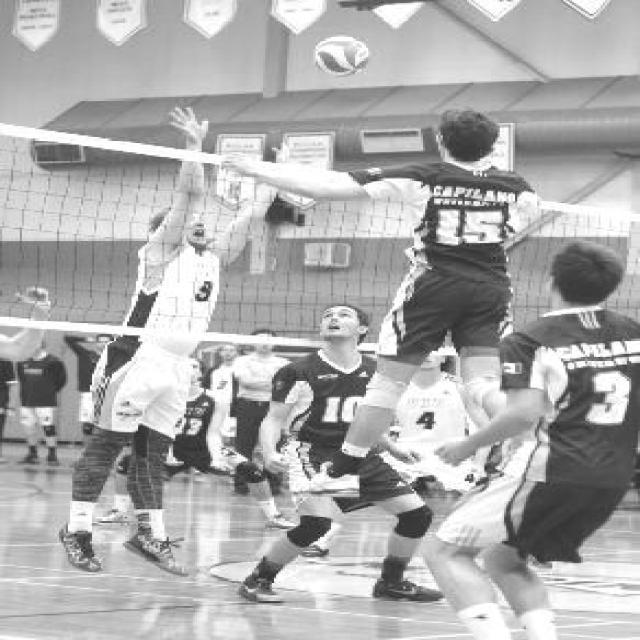volleyball: (313, 36, 368, 78)
